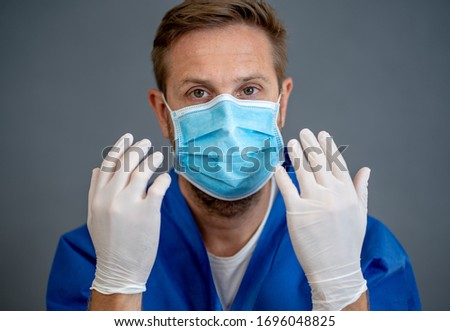Gloves: (270, 125, 380, 303), (82, 132, 173, 299)
with_mask: (170, 74, 284, 197)
